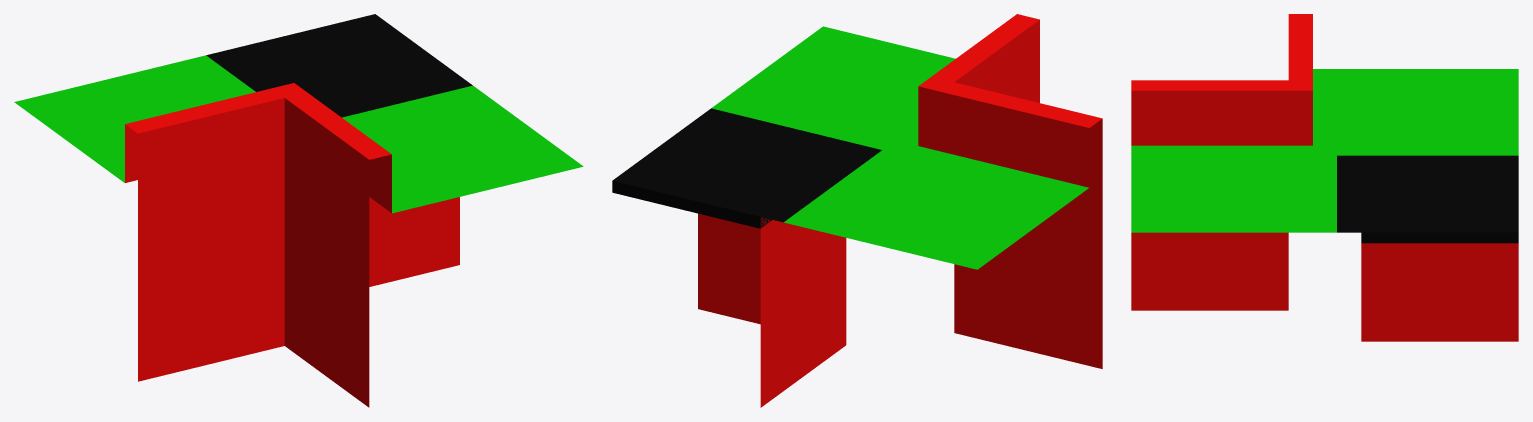
3 views of the same model, side by side, from view 1: azimuth 30°, elevation 25°; view 2: azimuth 150°, elevation 25°; view 3: azimuth 270°, elevation 25° (orthographic). The views are drawn at different scales.
Visible parts, largest first — view 1: None_P_W_E_E_W_E_E_E_None; view 2: None_P_W_E_E_W_E_E_E_None; view 3: None_P_W_E_E_W_E_E_E_None.
Boxes of the visible parts, x1,y1,x2,y2 form: None_P_W_E_E_W_E_E_E_None: (14,14,583,407); None_P_W_E_E_W_E_E_E_None: (612,14,1102,407); None_P_W_E_E_W_E_E_E_None: (1131,14,1518,341).
Bounding box in the file's own units: 100 × 65.62 × 100.
